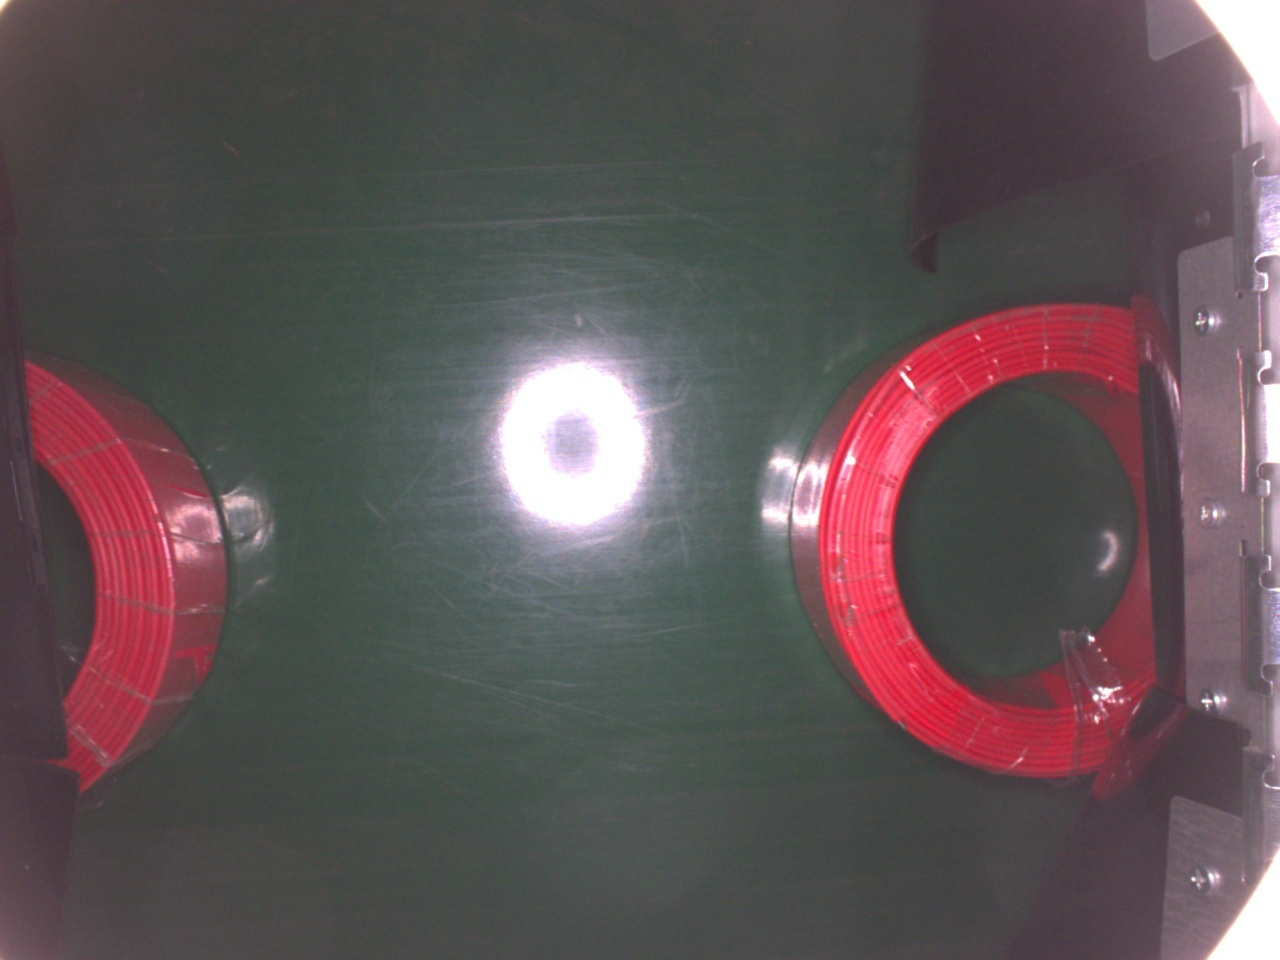red: (790, 296, 1184, 782), (26, 351, 228, 799)
